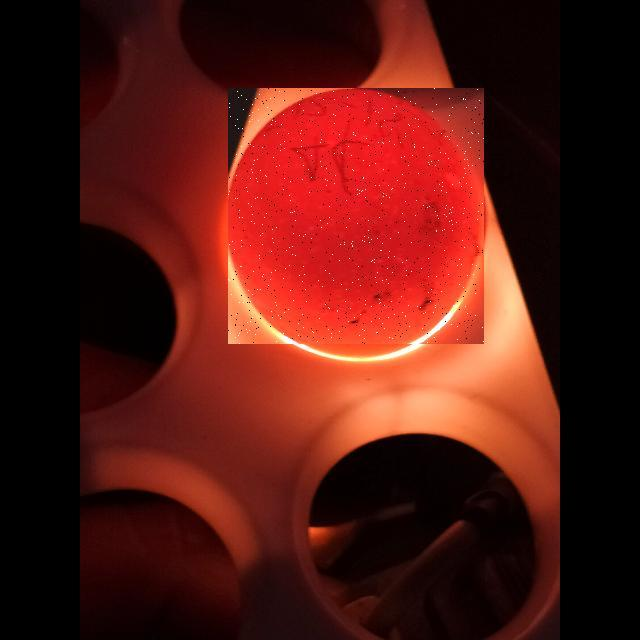Infertile: (228, 88, 484, 344)
